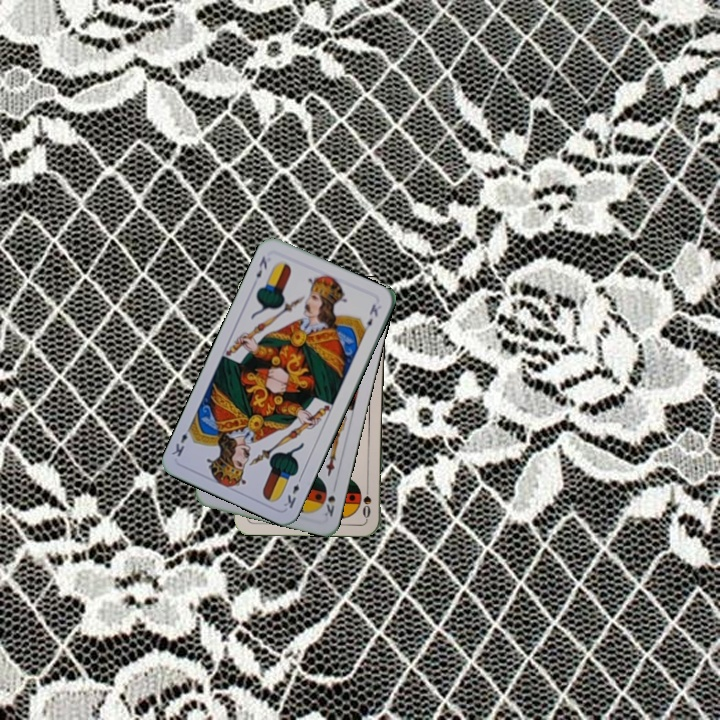EK: (279, 472, 304, 511), (252, 252, 270, 280)
SK: (319, 483, 338, 519)
SO: (359, 480, 373, 520)
